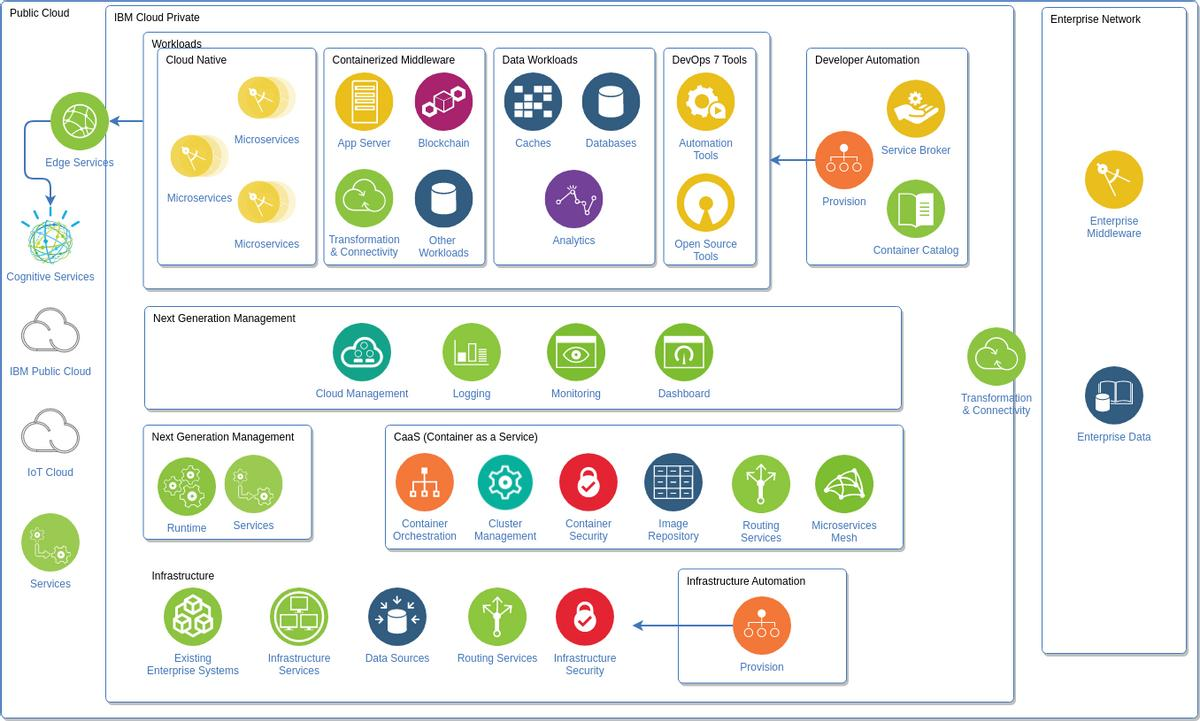Backend: (413, 69, 468, 127), (340, 73, 391, 133), (1088, 153, 1140, 204), (26, 518, 73, 572), (734, 460, 783, 509), (233, 72, 280, 122), (232, 458, 273, 512), (821, 460, 866, 508), (280, 590, 321, 642), (162, 461, 201, 513), (240, 182, 282, 224), (174, 134, 212, 179)
Cache: (509, 76, 556, 129)
Configuration: (681, 173, 733, 232), (680, 80, 732, 128), (333, 330, 384, 376), (486, 459, 529, 506)
Database: (370, 591, 426, 643), (1087, 372, 1141, 421), (590, 78, 630, 127), (429, 176, 463, 218)
Firewall: (563, 453, 604, 510), (564, 594, 608, 644)
Frontend: (62, 93, 99, 147)
Networking: (822, 133, 870, 183), (404, 458, 444, 509)
Storage: (649, 454, 698, 508)
